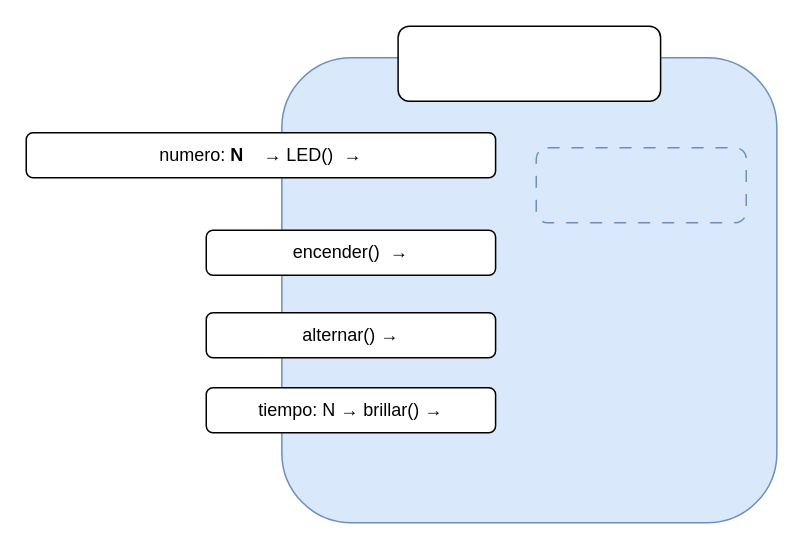
This 804x549 diagram has some shape labels left out. Each missing label, with the centre of its shape:
"LED" belongs at point (529, 63).
"LED:: numeroLED: N LED:: encendido: B" belongs at point (640, 184).
